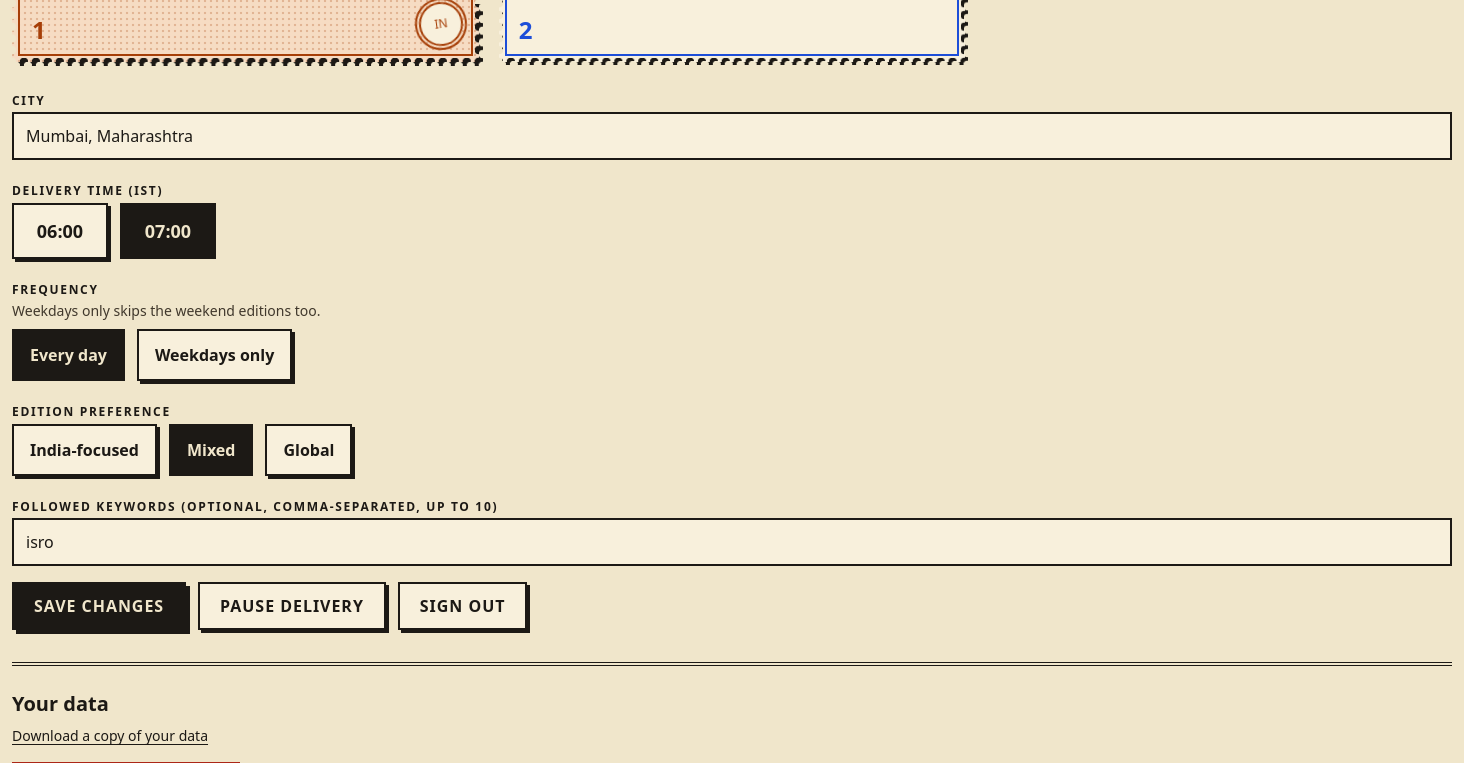
Test case: PreferencesPage, signed in › shows a save error from the backend rather than a generic one
(page scrolled)
Click the button "Save changes" at x=99, y=606, box 12,582 -> 186,630
(page scrolled)
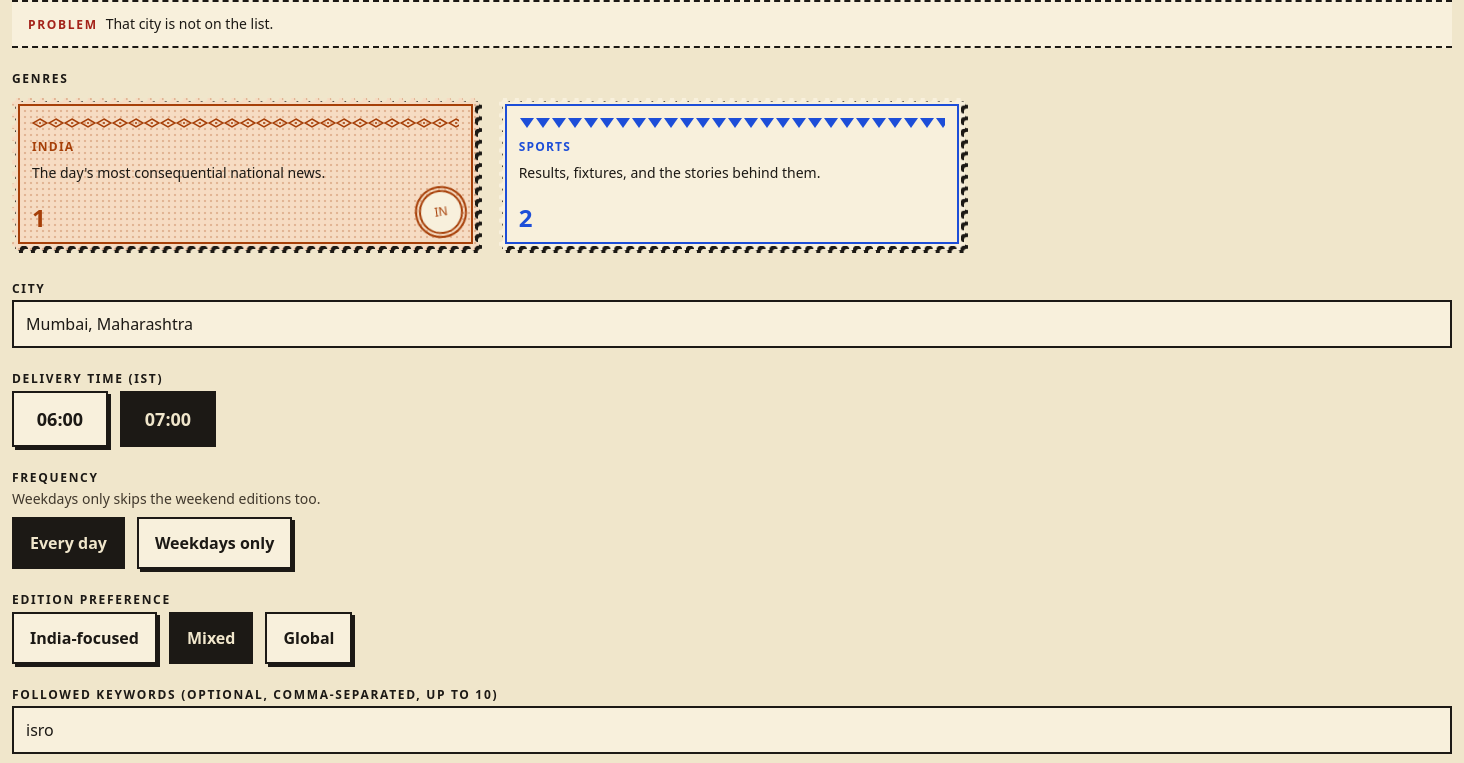
Now the text "That city is not on the list." is shown, box 106,14 -> 273,33
